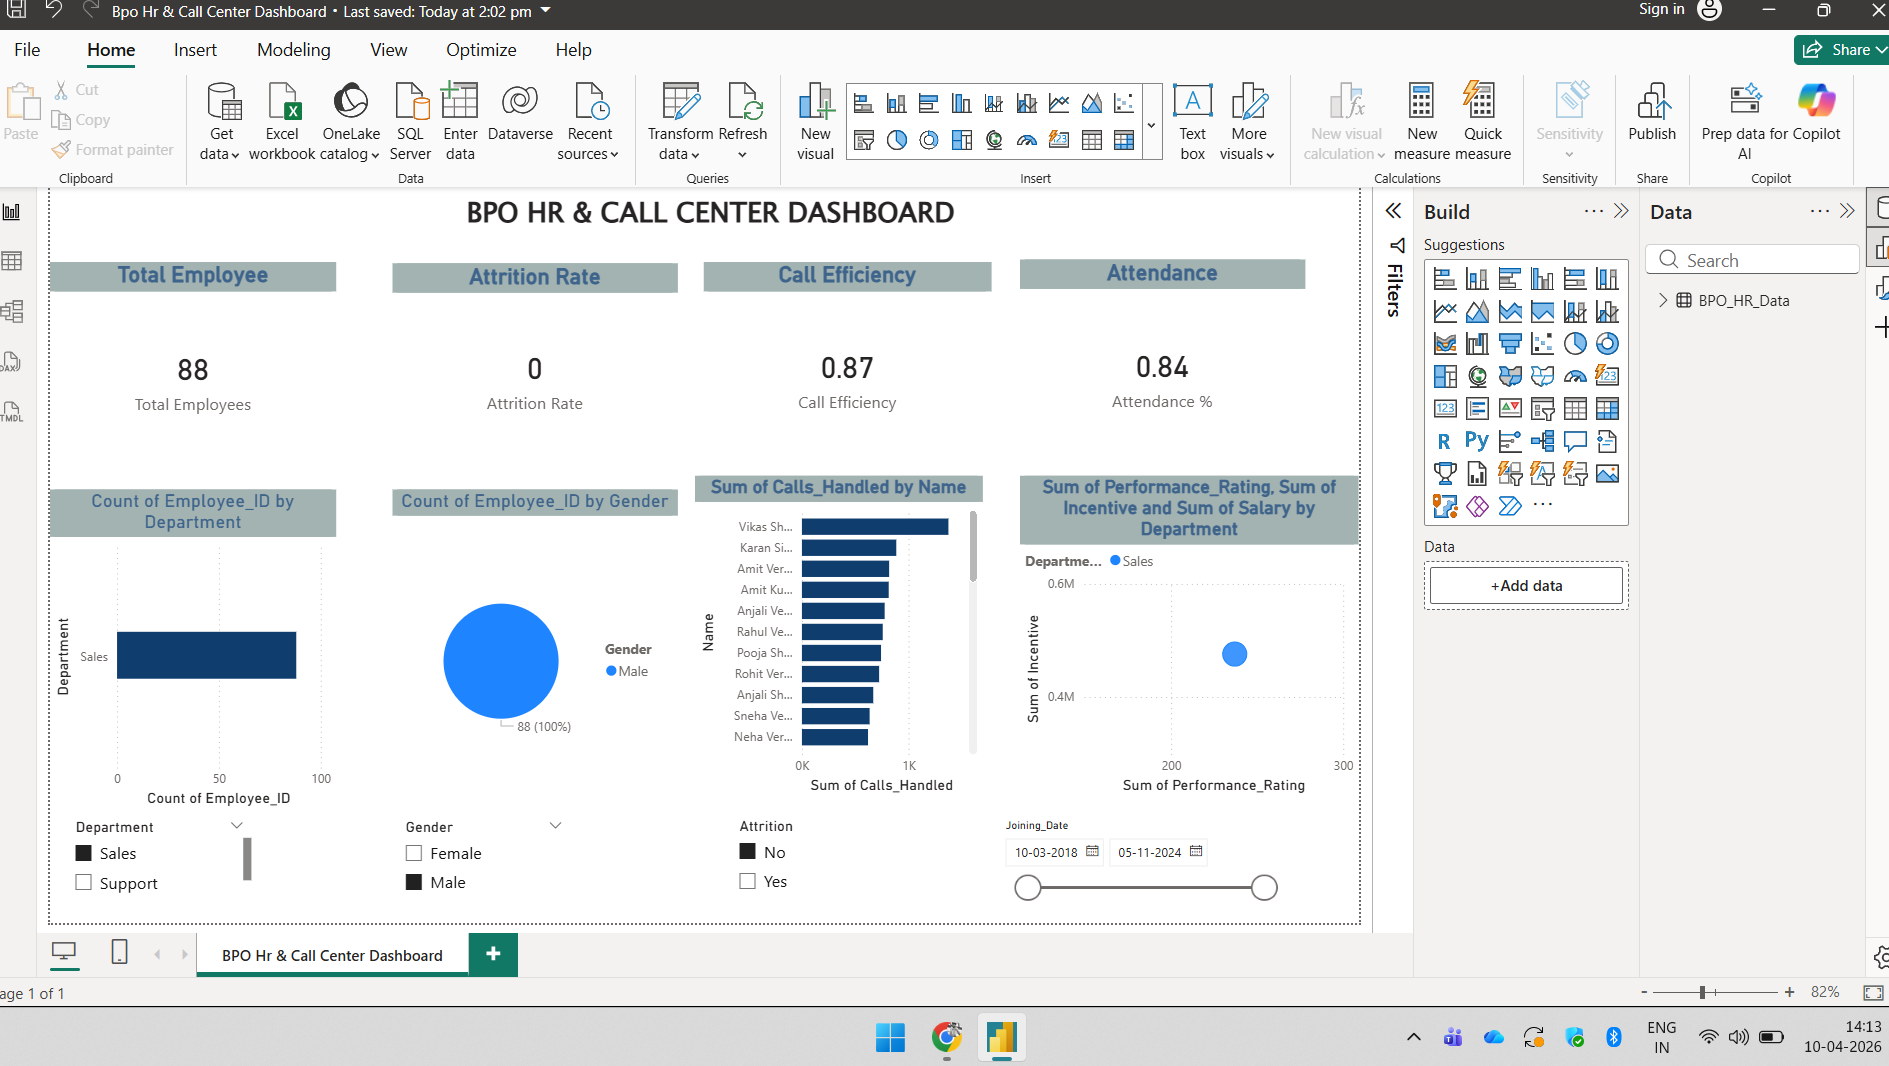

The dashboard page shown, as its layout file describes it:
{"tool":"powerbi","page":{"name":"BPO Hr & Call Center Dashboard","canvas":[1280,720],"ordinal":0},"visuals":[{"type":"card","title":"Total Employee","fields":{"Values":["BPO_HR_Data.Total Employees"]},"box":[0,73.4,280,204.2],"z":0},{"type":"card","title":"Attrition Rate","fields":{"Values":["BPO_HR_Data.Attrition Rate"]},"box":[335.1,74.6,278.8,200.5],"z":1},{"type":"card","title":"Call Efficiency","fields":{"Values":["BPO_HR_Data.Call Efficiency"]},"box":[639.5,73.4,281.3,200.5],"z":2},{"type":"card","title":"Attendance","fields":{"Values":["BPO_HR_Data.Attendance %"]},"box":[948.9,70.9,278.8,203],"z":3},{"type":"clusteredBarChart","fields":{"Category":["BPO_HR_Data.Department"],"Y":["CountNonNull(BPO_HR_Data.Employee_ID)"]},"box":[0,295.9,280,315.5],"z":4},{"type":"pieChart","fields":{"Category":["BPO_HR_Data.Gender"],"Y":["CountNonNull(BPO_HR_Data.Employee_ID)"]},"box":[335.1,295.9,278.8,315.5],"z":5},{"type":"barChart","fields":{"Category":["BPO_HR_Data.Name"],"Y":["Sum(BPO_HR_Data.Calls_Handled)"]},"box":[631,282.5,281.3,315.5],"z":6},{"type":"scatterChart","fields":{"Series":["BPO_HR_Data.Department"],"Size":["Sum(BPO_HR_Data.Salary)"],"X":["Sum(BPO_HR_Data.Performance_Rating)"],"Y":["Sum(BPO_HR_Data.Incentive)"]},"box":[948.9,282.5,331.4,315.5],"z":7},{"type":"slicer","fields":{"Values":["BPO_HR_Data.Department"]},"box":[12.2,612.6,189.5,89.3],"z":8},{"type":"slicer","fields":{"Values":["BPO_HR_Data.Gender"]},"box":[335.1,612.6,178.5,88],"z":9},{"type":"slicer","fields":{"Values":["BPO_HR_Data.Attrition"]},"box":[661.6,611.4,239.7,91.7],"z":10},{"type":"slicer","fields":{"Values":["BPO_HR_Data.Joining_Date"]},"box":[922,612.6,287.4,88],"z":11},{"type":"textbox","box":[12.2,0,1268.1,56.3],"z":12}]}

Visuals, with their boxes on the page's 1280x720 design canvas (x1, y1, x2, y2). These are canvas units, not pixel positions in the 1889x1066 screenshot, which may show the page scaled, cropped or inside an application window:
"Total Employee" card: <box>0,73,280,278</box>
"Attrition Rate" card: <box>335,75,614,275</box>
"Call Efficiency" card: <box>640,73,921,274</box>
"Attendance" card: <box>949,71,1228,274</box>
clusteredBarChart - BPO_HR_Data.Department x CountNonNull(BPO_HR_Data.Employee_ID): <box>0,296,280,611</box>
pieChart - BPO_HR_Data.Gender x CountNonNull(BPO_HR_Data.Employee_ID): <box>335,296,614,611</box>
barChart - BPO_HR_Data.Name x Sum(BPO_HR_Data.Calls_Handled): <box>631,282,912,598</box>
scatterChart - BPO_HR_Data.Department x Sum(BPO_HR_Data.Salary): <box>949,282,1280,598</box>
slicer - BPO_HR_Data.Department: <box>12,613,202,702</box>
slicer - BPO_HR_Data.Gender: <box>335,613,514,701</box>
slicer - BPO_HR_Data.Attrition: <box>662,611,901,703</box>
slicer - BPO_HR_Data.Joining_Date: <box>922,613,1209,701</box>
textbox: <box>12,0,1280,56</box>
